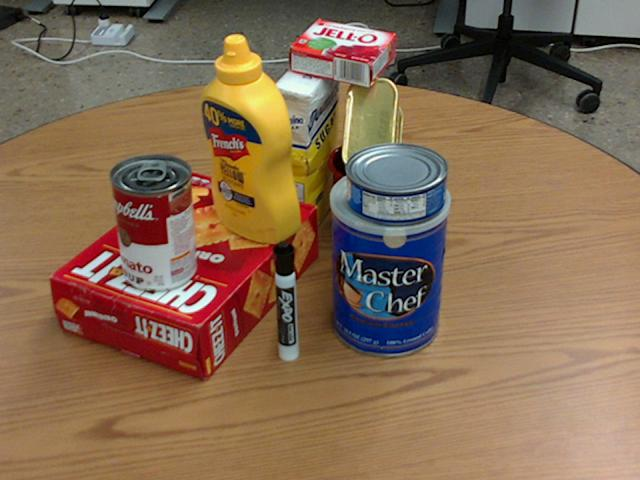cracker_box: (52, 175, 318, 380)
gelatin_box: (286, 20, 395, 86)
large_marker: (274, 241, 298, 361)
master_chef_can: (328, 163, 448, 355)
mug: (330, 138, 440, 242)
mustard_bottle: (199, 34, 299, 242)
potted_meat_can: (341, 78, 401, 193)
sugar_box: (272, 52, 340, 241)
tomato_soup_can: (109, 153, 196, 291)
tuna_fish_can: (344, 141, 447, 223)
